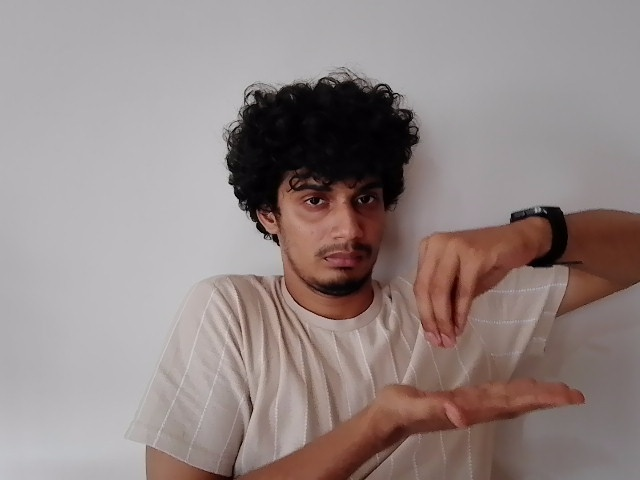learn: (382, 221, 589, 428)
